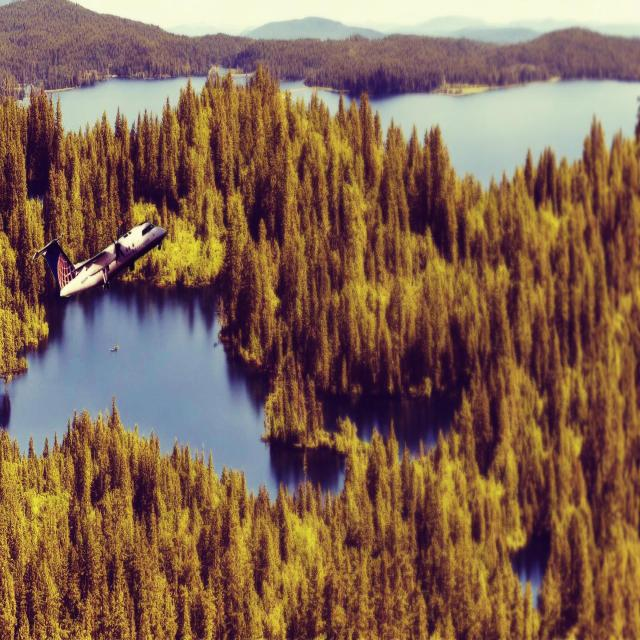airplane: (32, 218, 168, 299)
